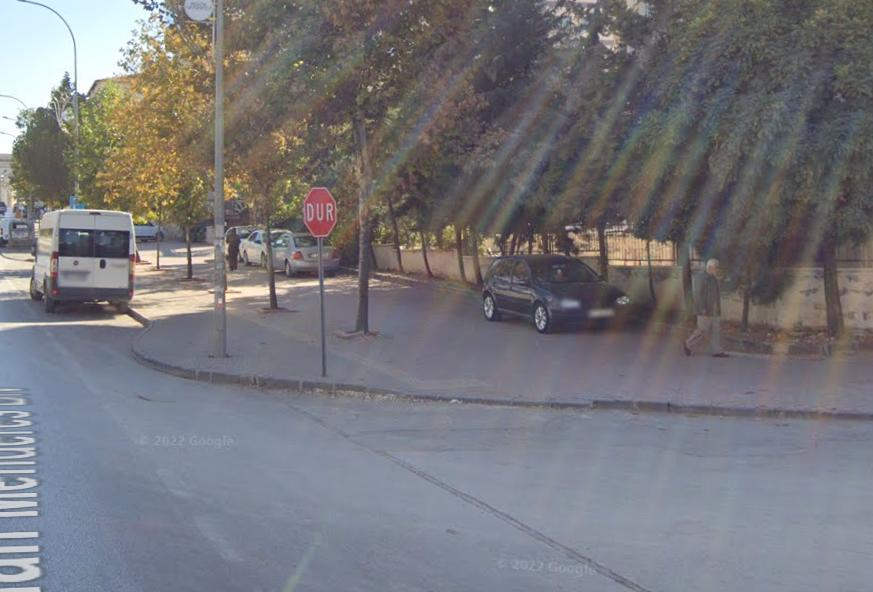stop: (301, 187, 338, 236)
